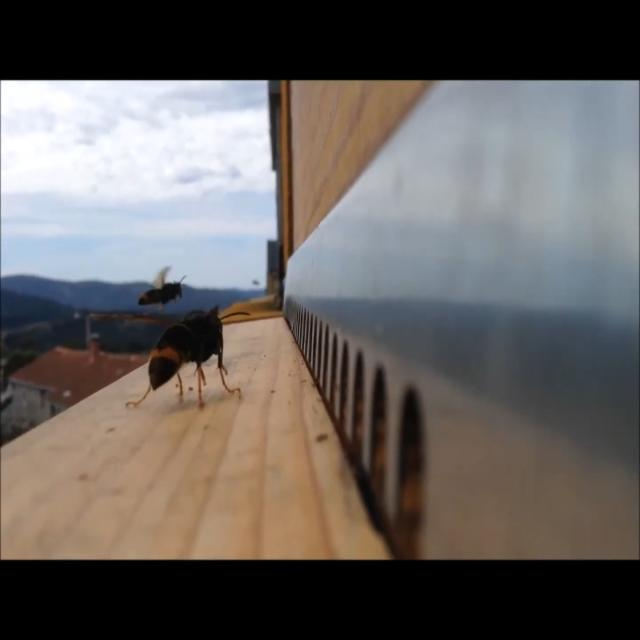Hornets: (98, 307, 257, 411), (137, 264, 189, 312)
